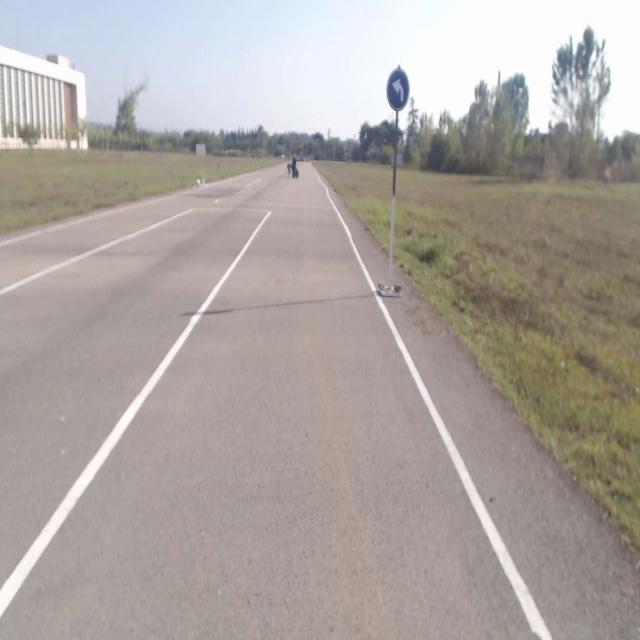sol: (388, 68, 410, 110)
